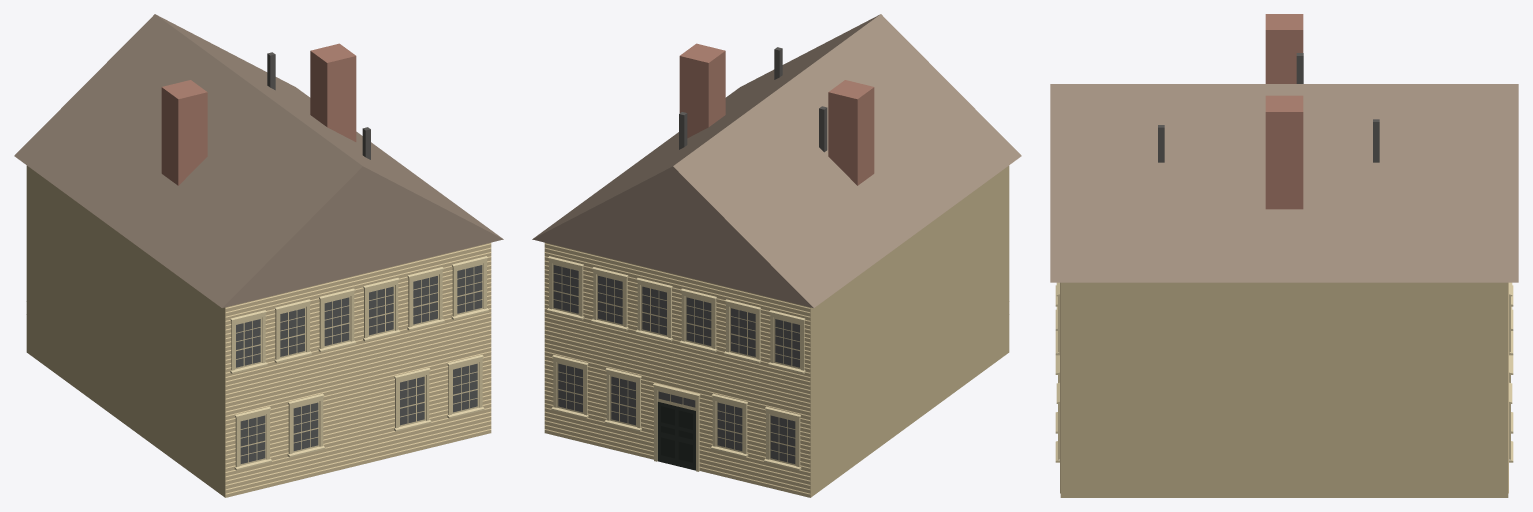
The model's file is recon_1835_north_h2_030__inferred_1835.glb.
3 views of the same model, side by side, from view 1: azimuth 30°, elevation 25°; view 2: azimuth 150°, elevation 25°; view 3: azimuth 270°, elevation 25° (orthographic). The views are drawn at different scales.
Parts seen in each view (by area): view 1: recon_1835_north_h2_030__inferred_1835; view 2: recon_1835_north_h2_030__inferred_1835; view 3: recon_1835_north_h2_030__inferred_1835.
Part boxes in pixels (left/top/right/bottom): recon_1835_north_h2_030__inferred_1835: left=14, top=14, right=503, bottom=497; recon_1835_north_h2_030__inferred_1835: left=532, top=14, right=1021, bottom=497; recon_1835_north_h2_030__inferred_1835: left=1050, top=14, right=1518, bottom=497.
Size of the model in its own units: 8.68 by 9.46 by 11.09.
